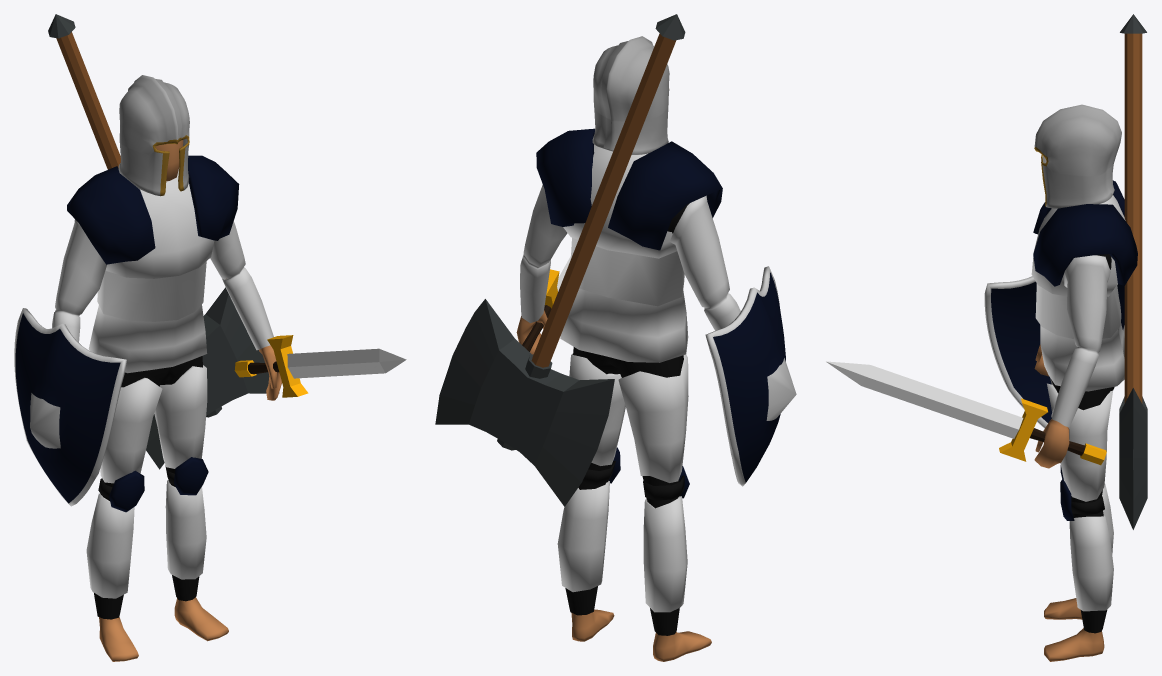
Rendered from exporttest.obj.
3 views of the same model, side by side, from view 1: azimuth 30°, elevation 25°; view 2: azimuth 150°, elevation 25°; view 3: azimuth 270°, elevation 25° (orthographic). The views are drawn at different scales.
Parts seen in each view (by area): view 1: Platebody_Cube.002, Platelegs_Cube.005, Shield_CUSurfPatch, Cylinder.001, Helmet_Cube.009, Cylinder, Cube; view 2: Platebody_Cube.002, Cylinder.001, Platelegs_Cube.005, Shield_CUSurfPatch, Helmet_Cube.009, Cube, Cylinder; view 3: Platebody_Cube.002, Cylinder.001, Platelegs_Cube.005, Helmet_Cube.009, Shield_CUSurfPatch, Cylinder, Cube.
Boxes of the visible parts, left/top/right/bottom form: Platebody_Cube.002: left=52, top=155, right=273, bottom=373; Platelegs_Cube.005: left=86, top=356, right=208, bottom=619; Shield_CUSurfPatch: left=14, top=308, right=126, bottom=506; Cylinder.001: left=48, top=14, right=279, bottom=469; Helmet_Cube.009: left=118, top=75, right=189, bottom=196; Cylinder: left=234, top=335, right=406, bottom=397; Cube: left=99, top=140, right=281, bottom=661; Platebody_Cube.002: left=520, top=128, right=740, bottom=362; Cylinder.001: left=435, top=14, right=685, bottom=506; Platelegs_Cube.005: left=557, top=347, right=689, bottom=635; Shield_CUSurfPatch: left=705, top=266, right=796, bottom=486; Helmet_Cube.009: left=592, top=36, right=669, bottom=154; Cube: left=516, top=310, right=711, bottom=661; Cylinder: left=522, top=256, right=570, bottom=351; Platebody_Cube.002: left=1031, top=180, right=1137, bottom=427; Cylinder.001: left=1119, top=14, right=1147, bottom=529; Platelegs_Cube.005: left=1047, top=378, right=1114, bottom=633; Helmet_Cube.009: left=1034, top=104, right=1121, bottom=208; Shield_CUSurfPatch: left=984, top=276, right=1124, bottom=428; Cylinder: left=826, top=361, right=1106, bottom=465; Cube: left=1034, top=161, right=1104, bottom=661.
Size of the model in its own units: 1 by 2.04 by 1.01.
